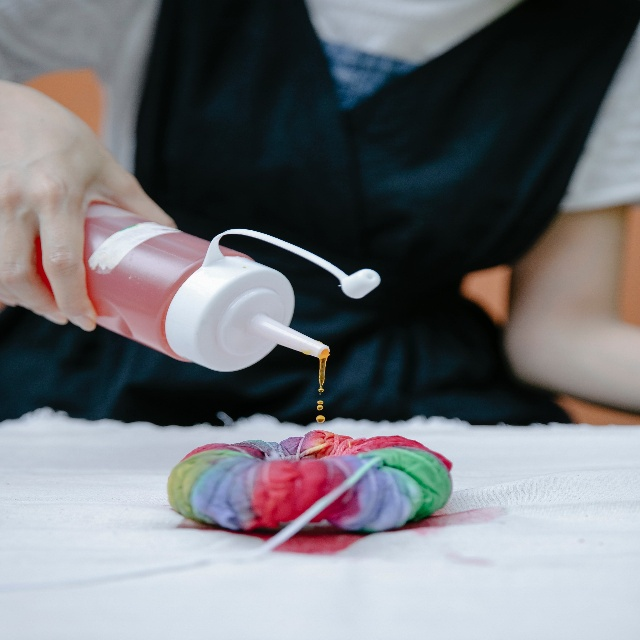Sin_guantes: (0, 79, 178, 331)
